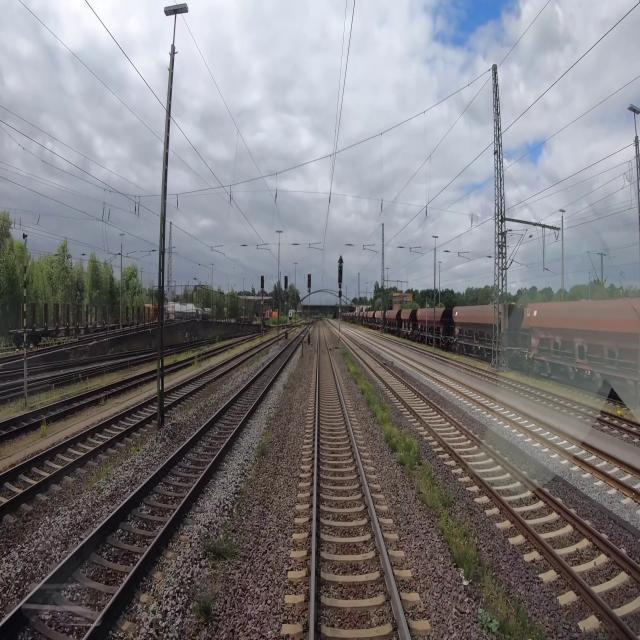Plant: (343, 349, 545, 639), (240, 428, 270, 494), (201, 517, 236, 558), (191, 588, 214, 624), (84, 463, 108, 491), (39, 416, 47, 438), (130, 441, 140, 456), (192, 352, 200, 368)
